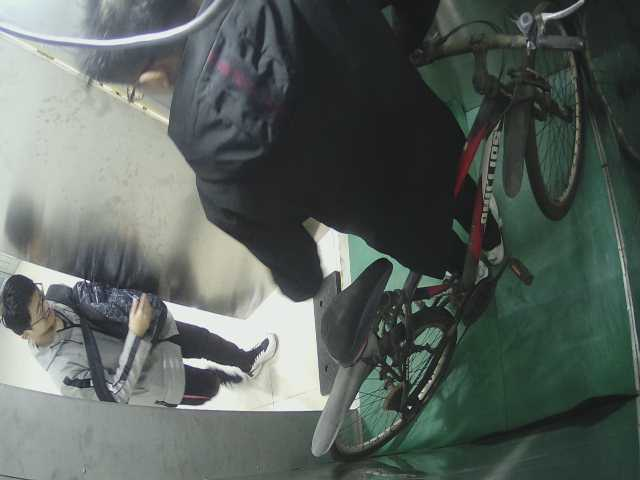bicycle: (306, 1, 591, 472)
person: (70, 1, 518, 281), (1, 256, 286, 404)
